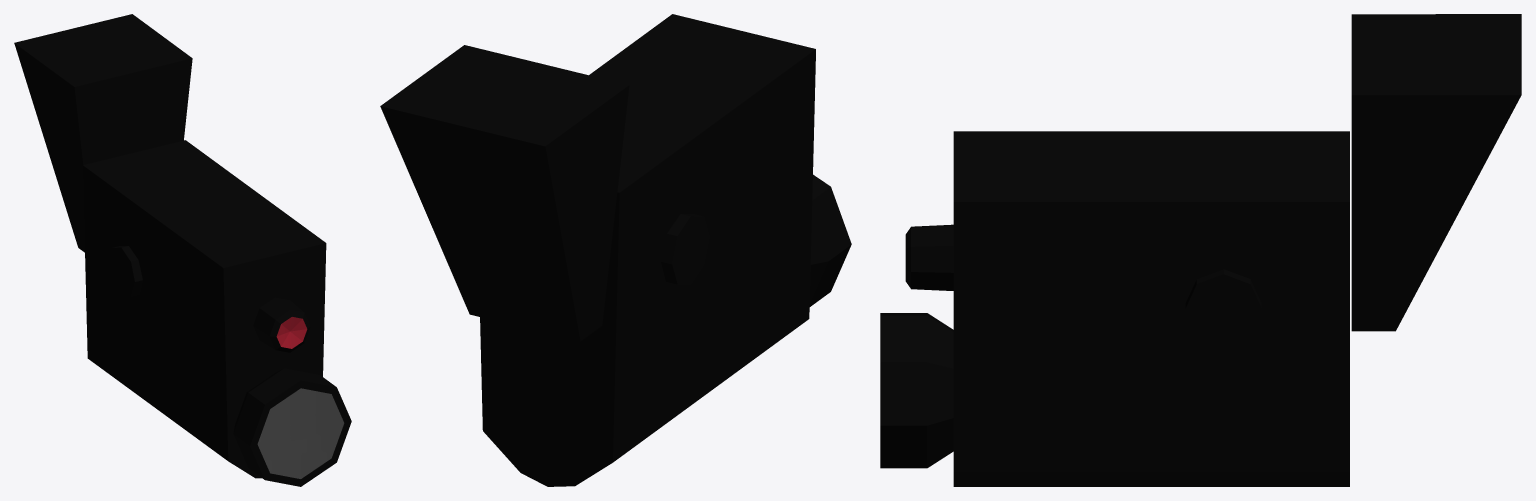
Rendered from PistolLaserLight_mesh.fbx.
The picture shows the model from 3 angles, left to right: view 1: azimuth 30°, elevation 25°; view 2: azimuth 150°, elevation 25°; view 3: azimuth 270°, elevation 25°; orthographic projection. The views are drawn at different scales.
Visible parts, largest first — view 1: PistolLaserLight_mesh; view 2: PistolLaserLight_mesh; view 3: PistolLaserLight_mesh.
Boxes of the visible parts, left/top/right/bottom form: PistolLaserLight_mesh: left=14, top=14, right=351, bottom=486; PistolLaserLight_mesh: left=380, top=14, right=851, bottom=486; PistolLaserLight_mesh: left=880, top=14, right=1521, bottom=486.
Size of the model in its own units: 2.33 by 5.71 by 7.78.
